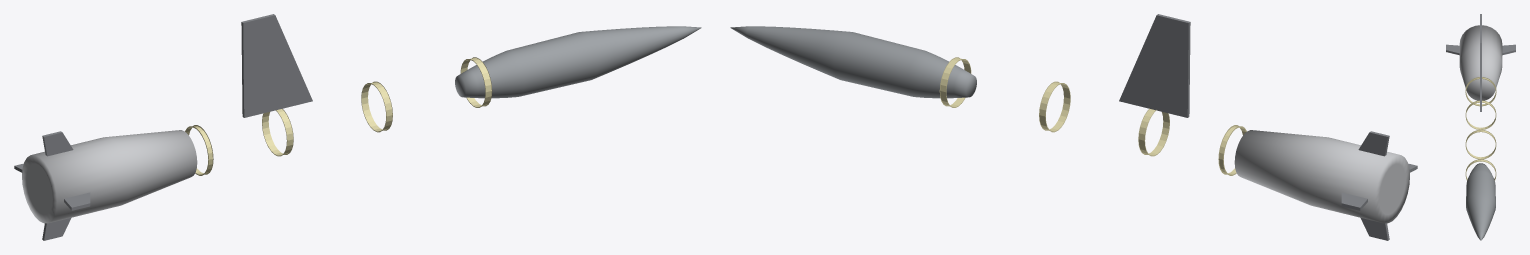
File: RU_ASM_Kalibr_3M54_LOD1.fbx
The picture shows the model from 3 angles, left to right: view 1: azimuth 30°, elevation 25°; view 2: azimuth 150°, elevation 25°; view 3: azimuth 270°, elevation 25°; orthographic projection. The views are drawn at different scales.
Visible parts, largest first — view 1: WPN_RU_ASM_Kalibr_3M54_LOD1_Tail, WPN_RU_ASM_Kalibr_3M54_LOD1_Body, WPN_RU_ASM_Kalibr_3M54_LOD1_Wings, WPN_RU_ASM_Kalibr_3M54_LOD1_Marking, WPN_RU_ASM_Kalibr_3M54_LOD1_Fins; view 2: WPN_RU_ASM_Kalibr_3M54_LOD1_Tail, WPN_RU_ASM_Kalibr_3M54_LOD1_Body, WPN_RU_ASM_Kalibr_3M54_LOD1_Wings, WPN_RU_ASM_Kalibr_3M54_LOD1_Marking, WPN_RU_ASM_Kalibr_3M54_LOD1_Fins; view 3: WPN_RU_ASM_Kalibr_3M54_LOD1_Tail, WPN_RU_ASM_Kalibr_3M54_LOD1_Body, WPN_RU_ASM_Kalibr_3M54_LOD1_Marking, WPN_RU_ASM_Kalibr_3M54_LOD1_Fins, WPN_RU_ASM_Kalibr_3M54_LOD1_Wings.
Part boxes in pixels (x1,y1,x2,y2): WPN_RU_ASM_Kalibr_3M54_LOD1_Tail: (22, 130, 197, 223); WPN_RU_ASM_Kalibr_3M54_LOD1_Body: (455, 26, 701, 98); WPN_RU_ASM_Kalibr_3M54_LOD1_Wings: (241, 14, 312, 117); WPN_RU_ASM_Kalibr_3M54_LOD1_Marking: (185, 57, 492, 175); WPN_RU_ASM_Kalibr_3M54_LOD1_Fins: (14, 131, 90, 240); WPN_RU_ASM_Kalibr_3M54_LOD1_Tail: (1234, 130, 1409, 223); WPN_RU_ASM_Kalibr_3M54_LOD1_Body: (730, 26, 976, 98); WPN_RU_ASM_Kalibr_3M54_LOD1_Wings: (1119, 14, 1190, 117); WPN_RU_ASM_Kalibr_3M54_LOD1_Marking: (939, 57, 1246, 175); WPN_RU_ASM_Kalibr_3M54_LOD1_Fins: (1341, 131, 1417, 240); WPN_RU_ASM_Kalibr_3M54_LOD1_Tail: (1459, 25, 1502, 100); WPN_RU_ASM_Kalibr_3M54_LOD1_Body: (1466, 163, 1495, 240); WPN_RU_ASM_Kalibr_3M54_LOD1_Marking: (1465, 77, 1496, 180); WPN_RU_ASM_Kalibr_3M54_LOD1_Fins: (1446, 14, 1515, 55); WPN_RU_ASM_Kalibr_3M54_LOD1_Wings: (1480, 33, 1481, 111).
Bounding box in the file's own units: 8.2 × 1.23 × 2.
